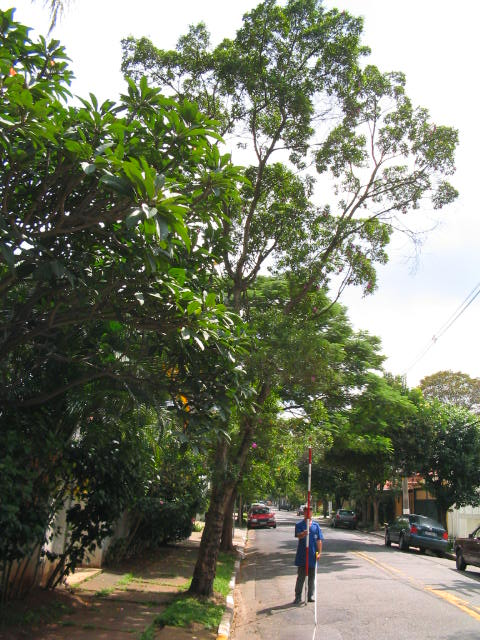crown: (123, 5, 460, 413)
stem: (188, 478, 236, 598)
stick: (300, 446, 317, 604)
tree: (120, 2, 464, 601)
